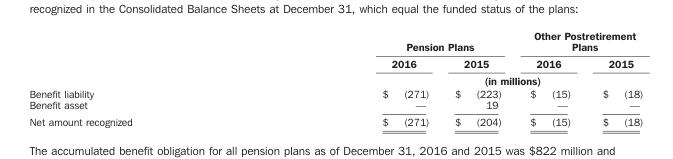table: (28, 28, 642, 127)
table column: (28, 28, 256, 127), (256, 28, 441, 127), (441, 28, 515, 127), (515, 28, 585, 127), (585, 28, 642, 127)
table column header: (28, 28, 642, 86)
table row: (28, 28, 642, 54), (28, 54, 642, 71), (28, 71, 642, 86), (28, 98, 642, 113), (28, 113, 642, 127), (28, 86, 642, 98)
table spanning cell: (256, 28, 515, 54), (256, 71, 642, 86), (515, 28, 642, 54)
